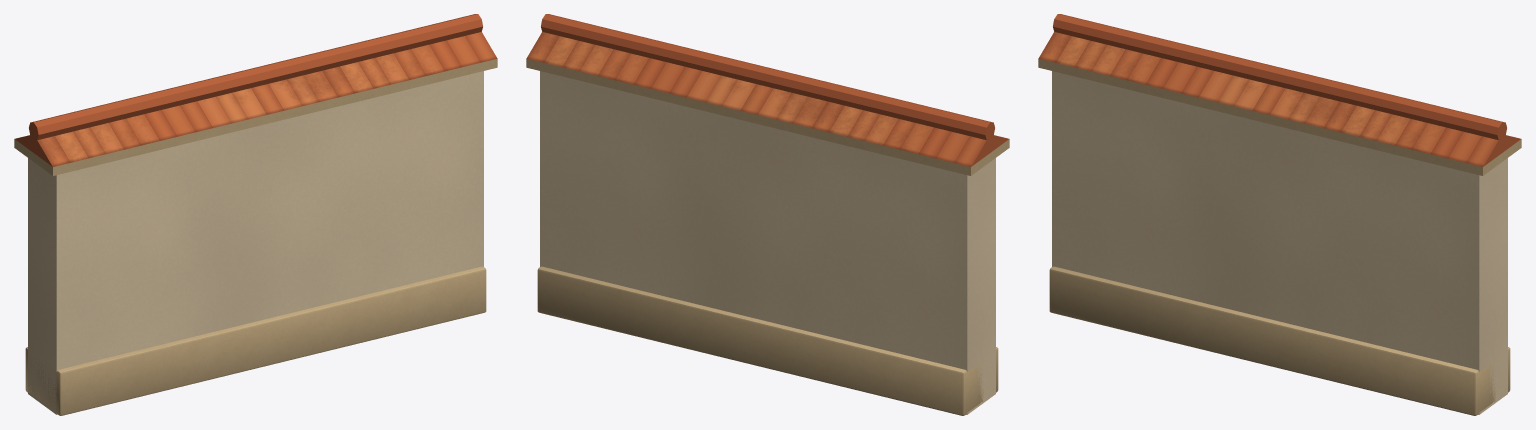
The model's file is garden_wall.glb.
3 renders of one model, left to right at view 1: azimuth 30°, elevation 25°; view 2: azimuth 150°, elevation 25°; view 3: azimuth 330°, elevation 25°, orthographic.
Parts seen in each view (by area): view 1: body; view 2: body; view 3: body.
Boxes of the visible parts, <box> form: body: <box>14,14,497,415</box>; body: <box>526,14,1009,415</box>; body: <box>1038,14,1521,415</box>.
Bounding box in the file's own units: 3.12 × 1.9 × 0.47.
Materials: 4 (3 with a texture image).
